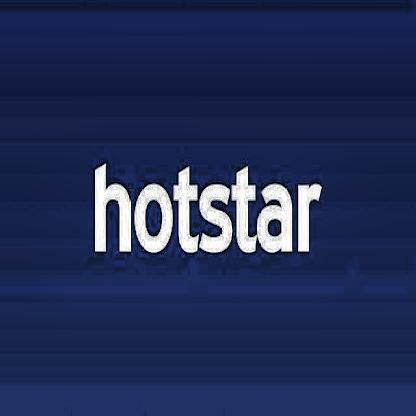Hotstar: (92, 157, 323, 258)
